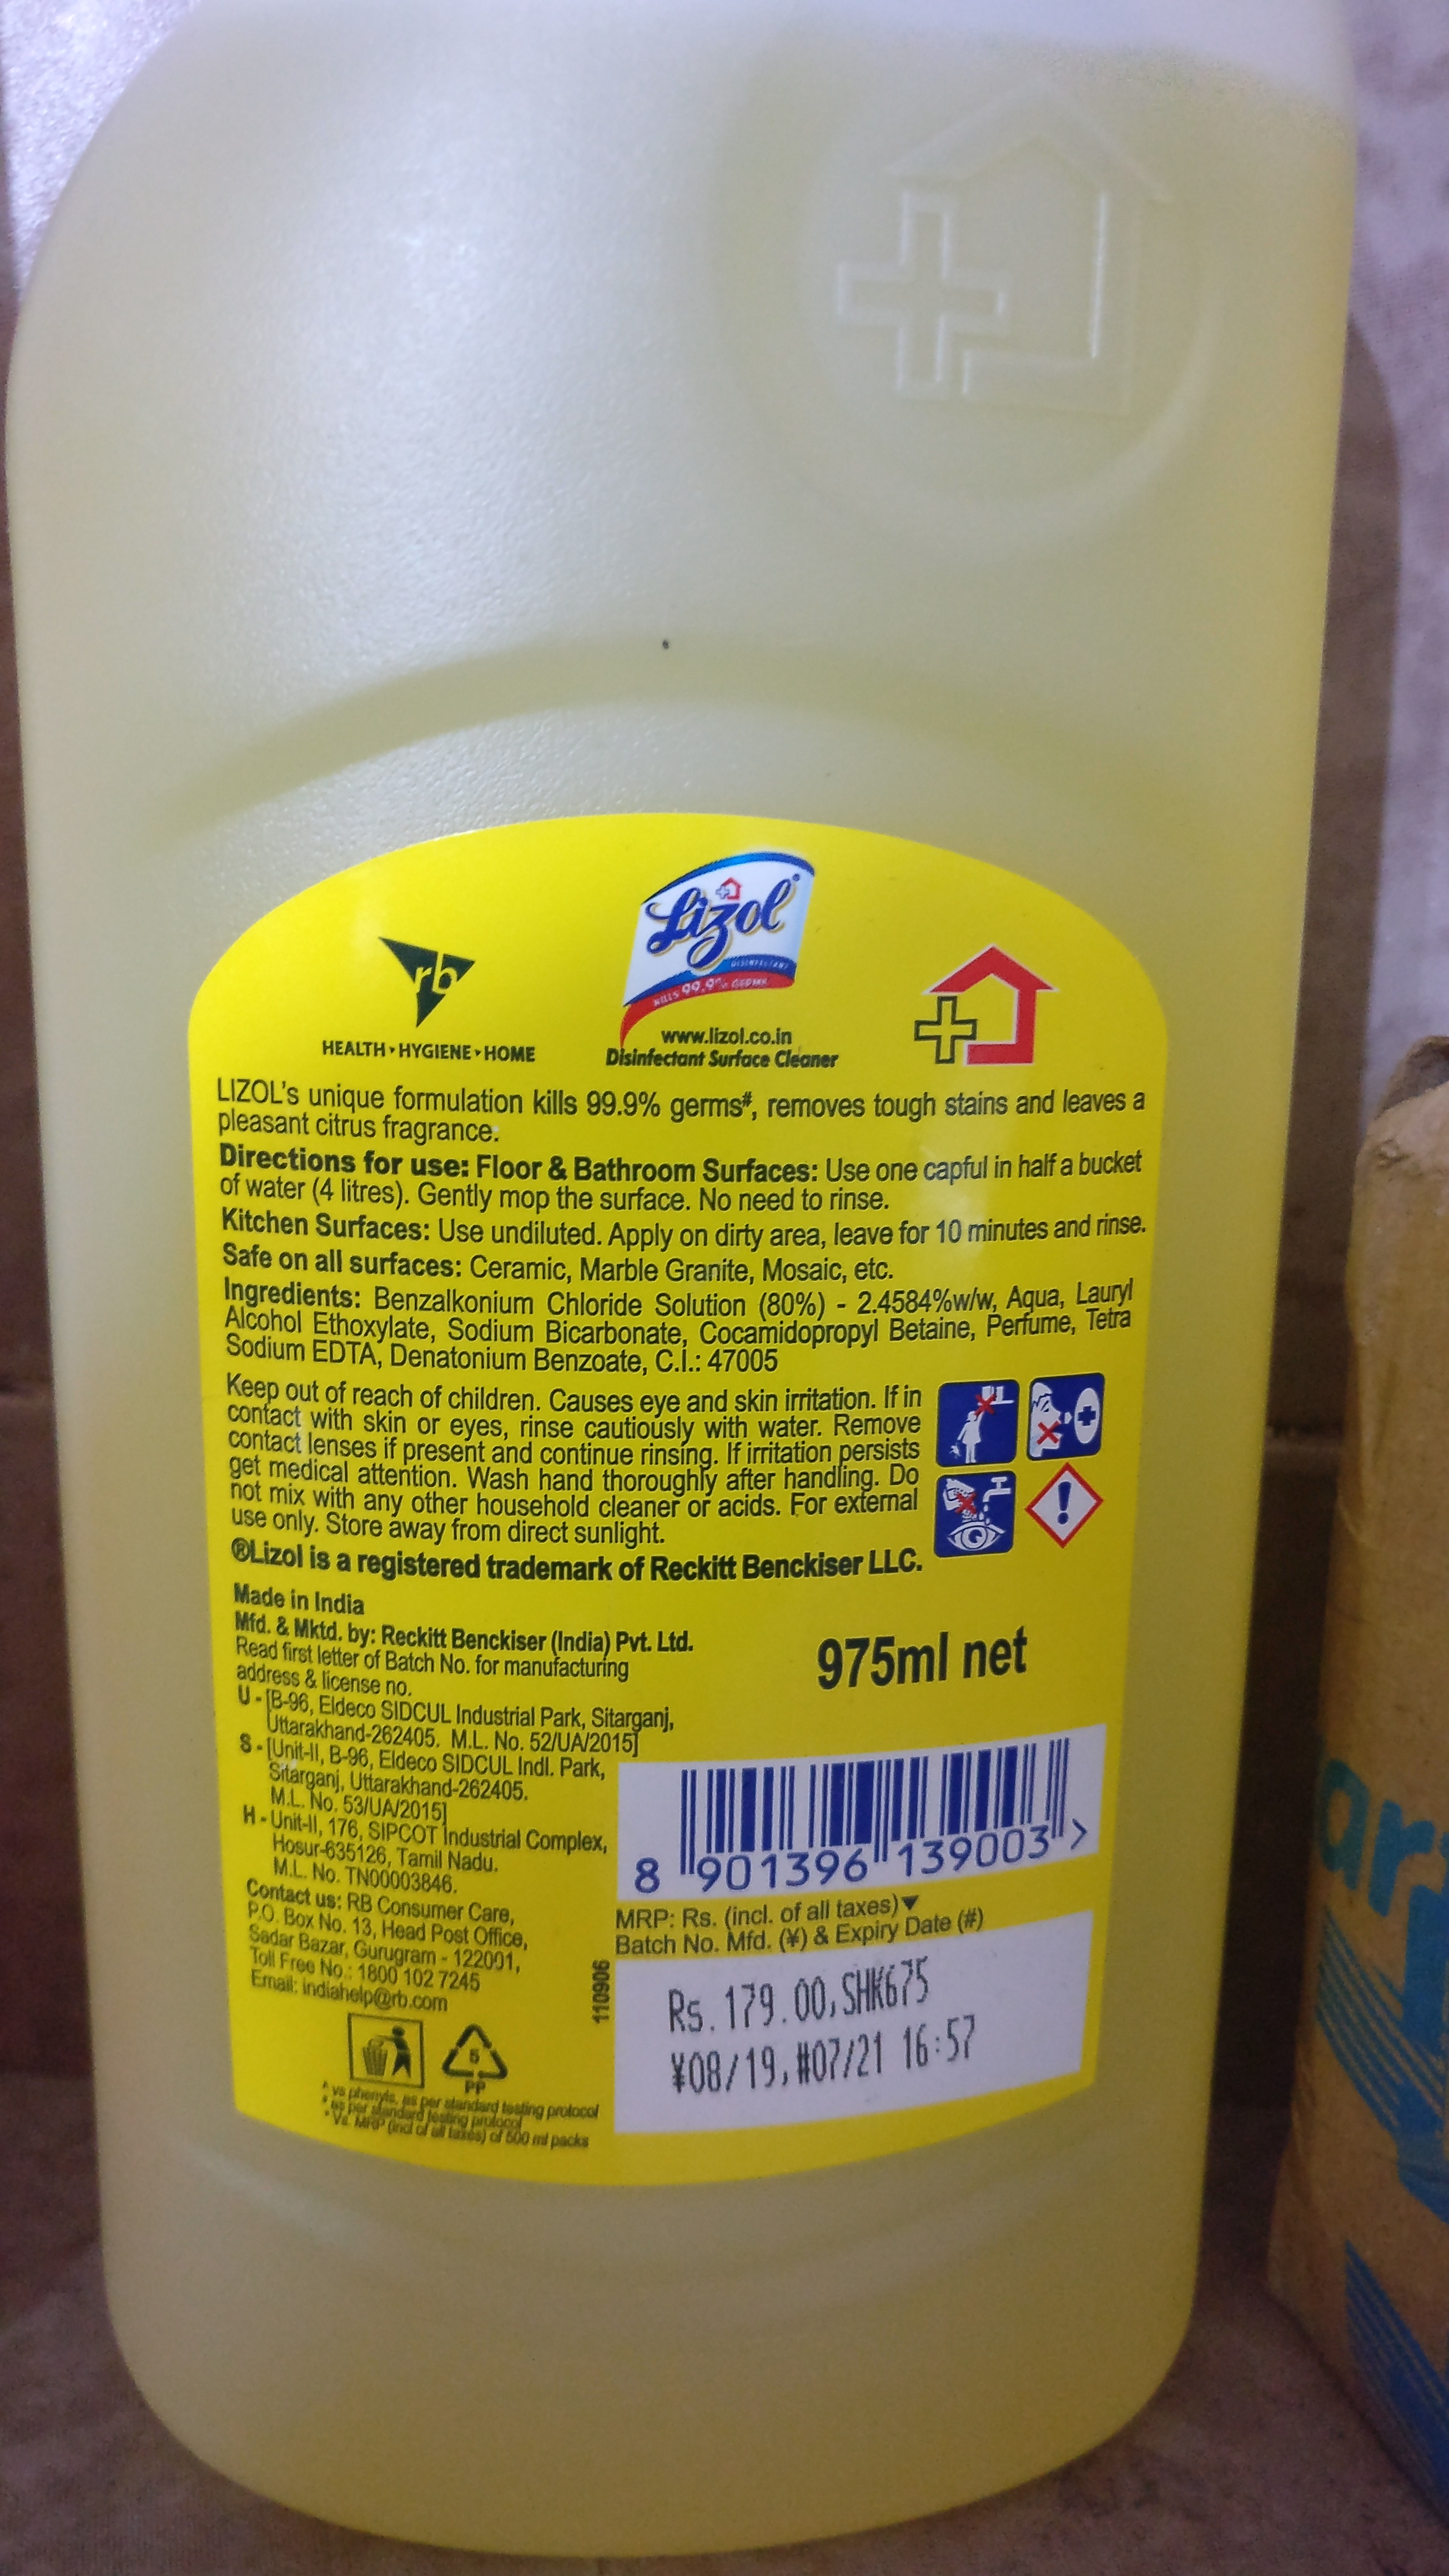barcode: (639, 1771, 1106, 1888)
